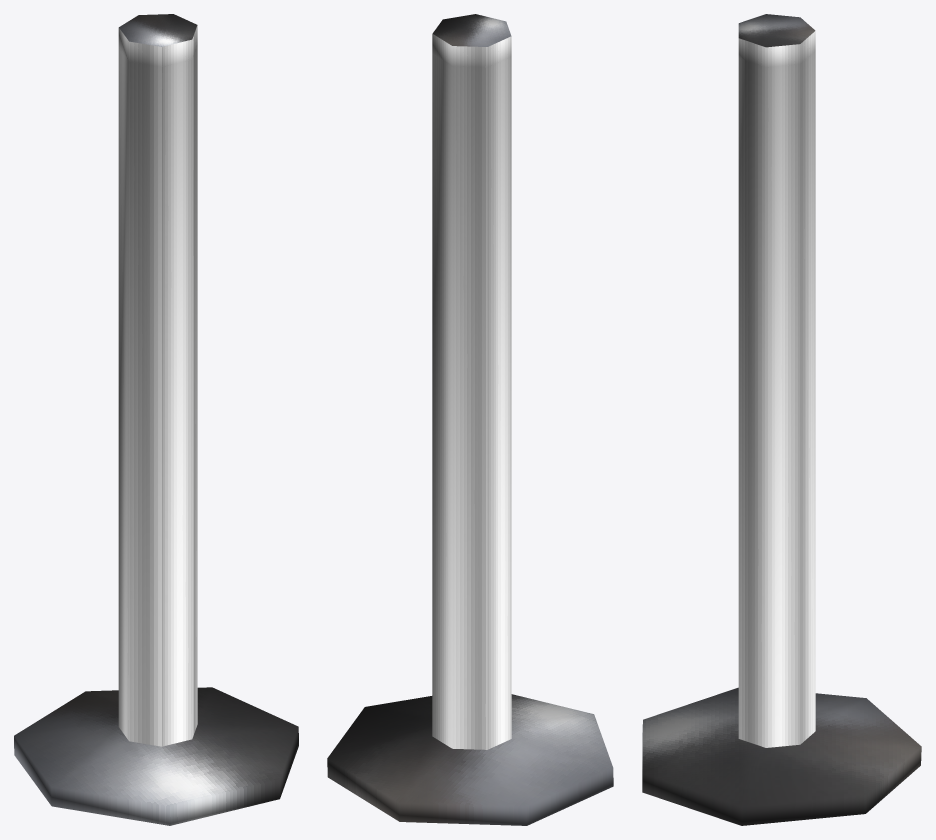
File: CinemaPole.glb
3 views of the same model, side by side, from view 1: azimuth 30°, elevation 25°; view 2: azimuth 150°, elevation 25°; view 3: azimuth 270°, elevation 25° (orthographic).
Parts seen in each view (by area): view 1: Pole; view 2: Pole; view 3: Pole.
Boxes of the visible parts, <box> form: Pole: <box>14,14,298,825</box>; Pole: <box>327,14,613,825</box>; Pole: <box>642,14,921,825</box>.
Bounding box in the file's own units: 0.4426 × 1.25 × 0.4323.
1 material, 1 textured.
